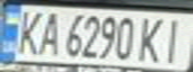0: (115, 14, 139, 62)
2: (78, 11, 103, 60)
6: (60, 10, 84, 58)
9: (96, 11, 121, 60)
A: (33, 8, 63, 56)
I: (157, 15, 190, 65)
K: (136, 14, 169, 63), (12, 8, 45, 55)
